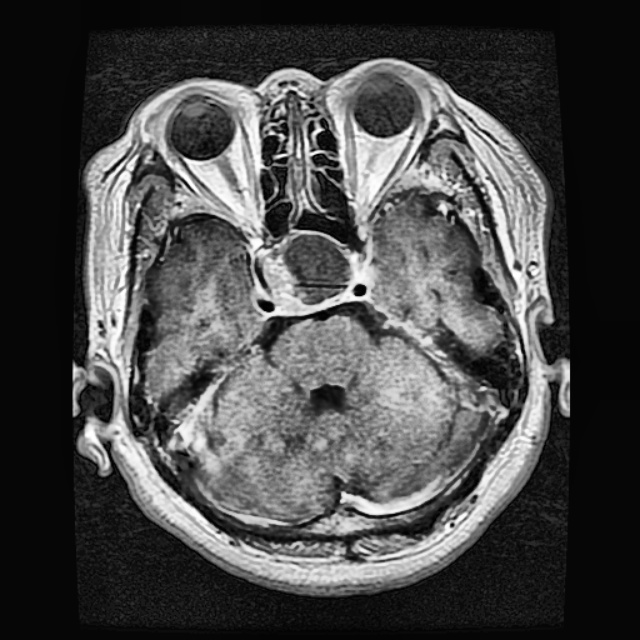Pituitary: (264, 228, 357, 313)
